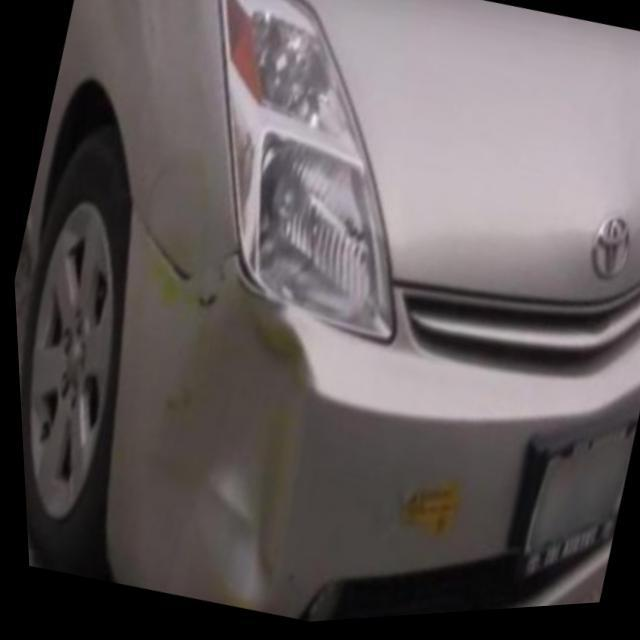dent: (129, 256, 312, 609)
scratch: (131, 211, 209, 317)
